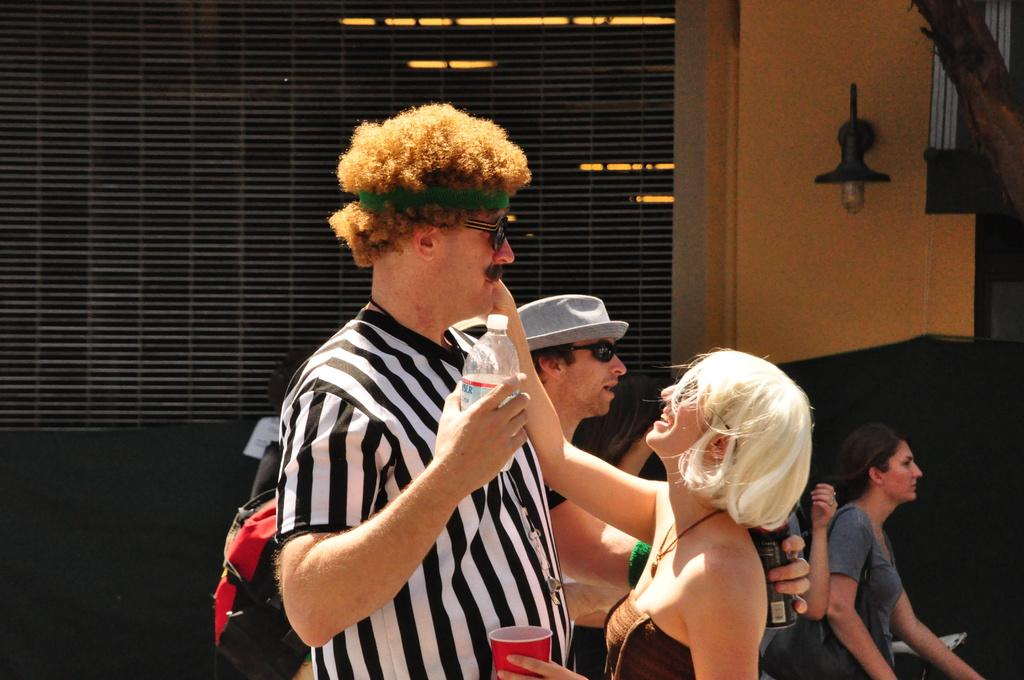Hat: (518, 291, 628, 361)
